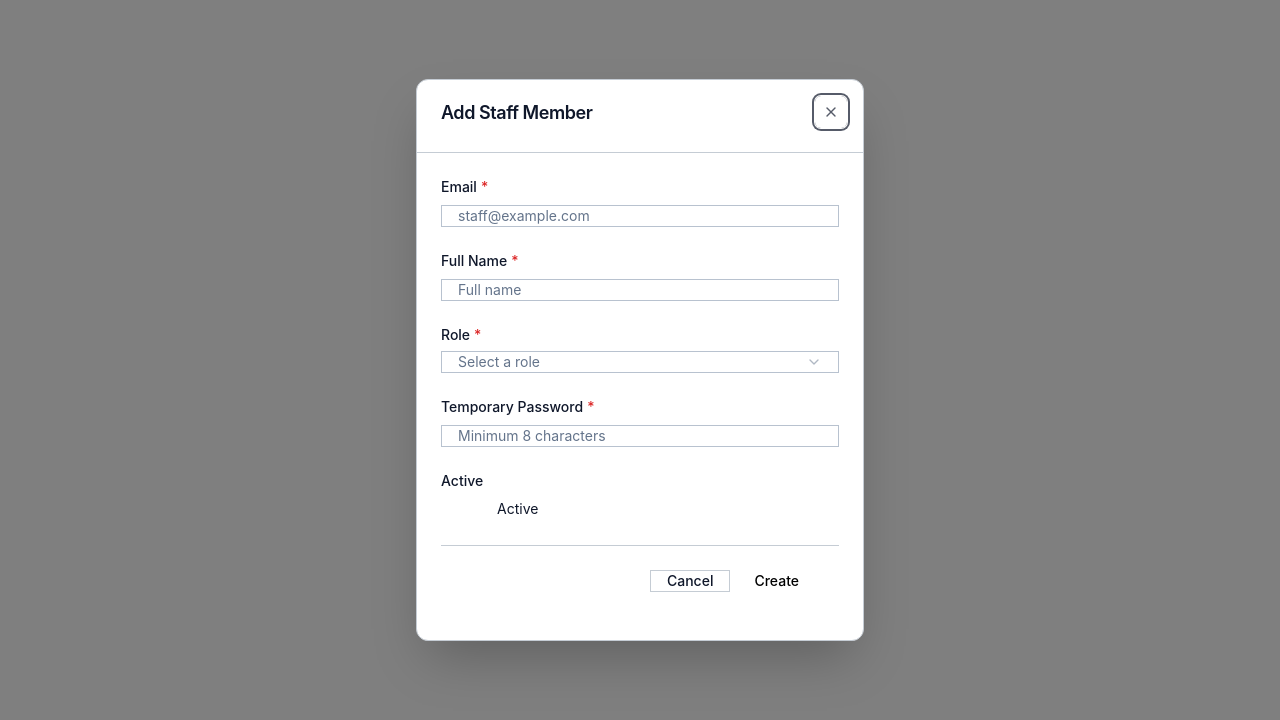
Test: StaffFormDialog › create mode › shows fullName validation error when too short
This screenshot has width=1280, height=720.
Type "A" into the field with placeholder "Full Name" at (640, 290), box top-left (441, 279), bottom-right (839, 301)
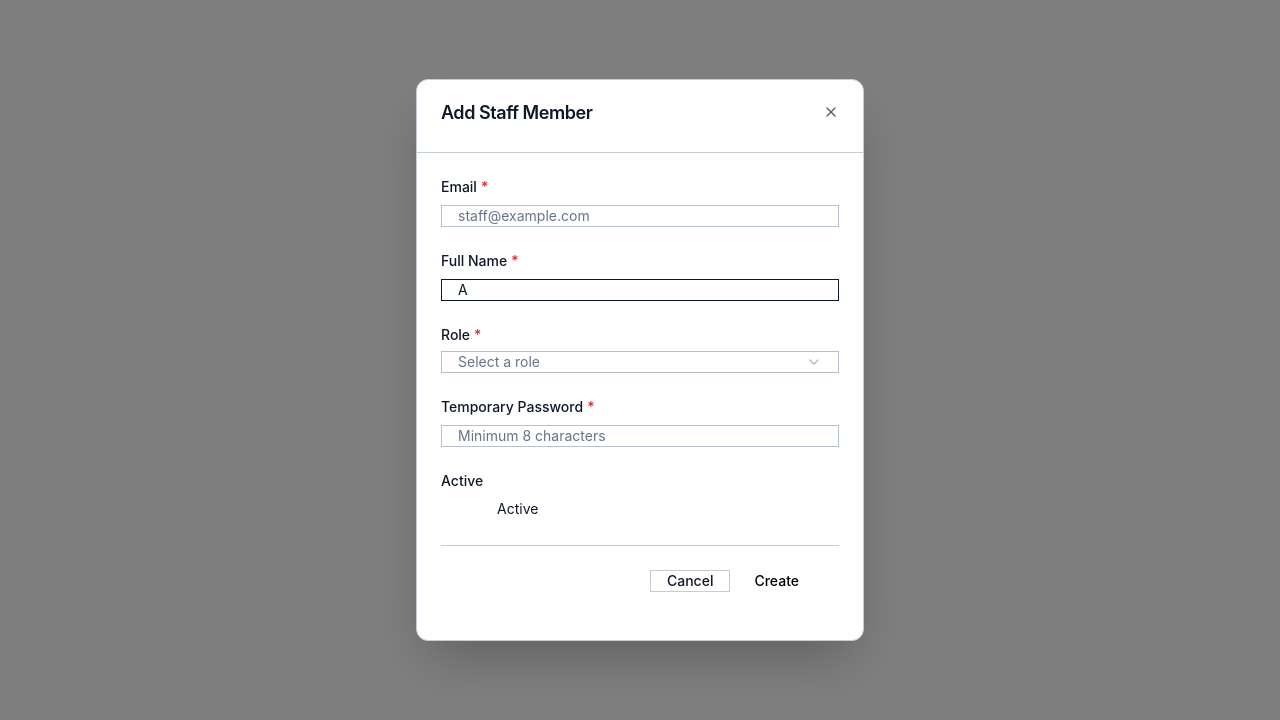
Click the button "Create" at (777, 581), box top-left (738, 571), bottom-right (815, 591)
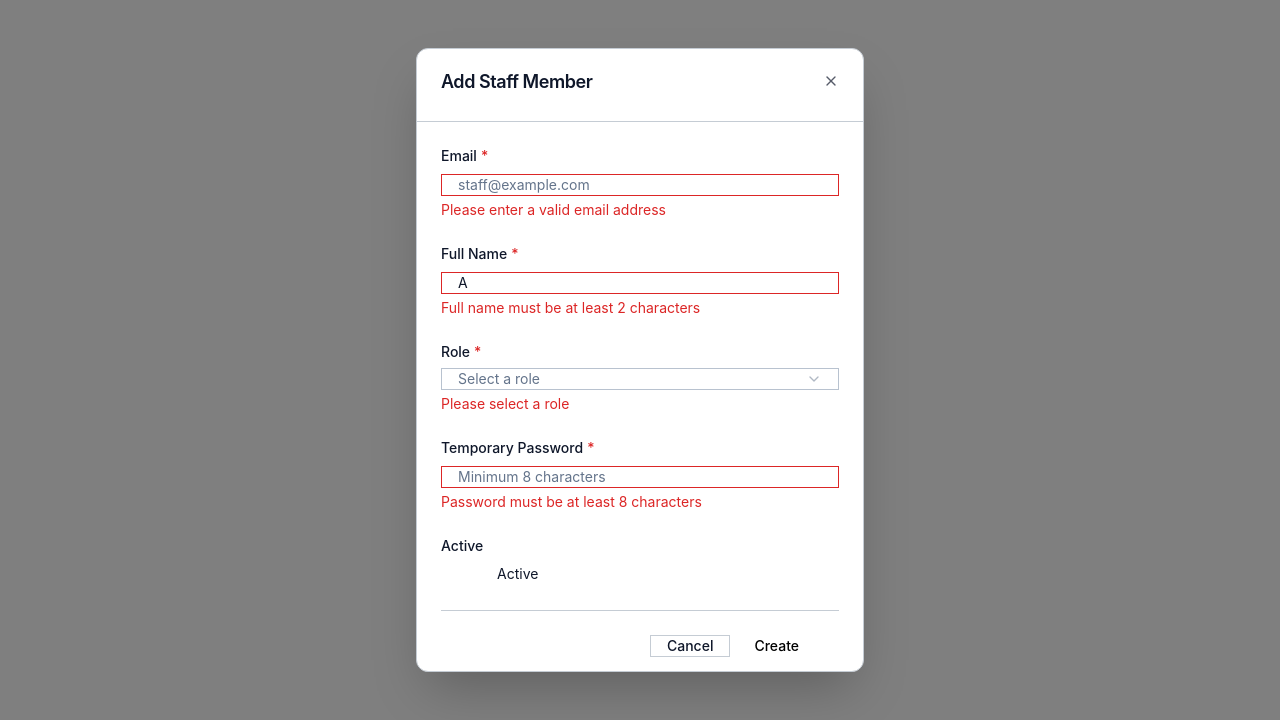
Expected: the text "Full name must be at least 2 characters" is shown, top-left (441, 299), bottom-right (700, 316)
